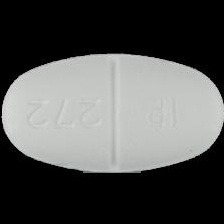0440-2406: (0, 0, 224, 224)
